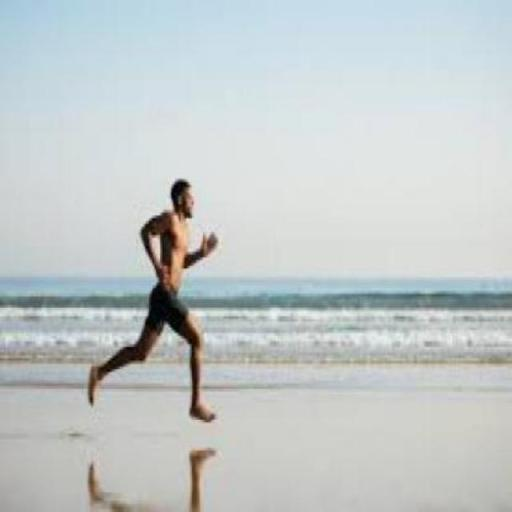Running: (82, 109, 350, 509)
